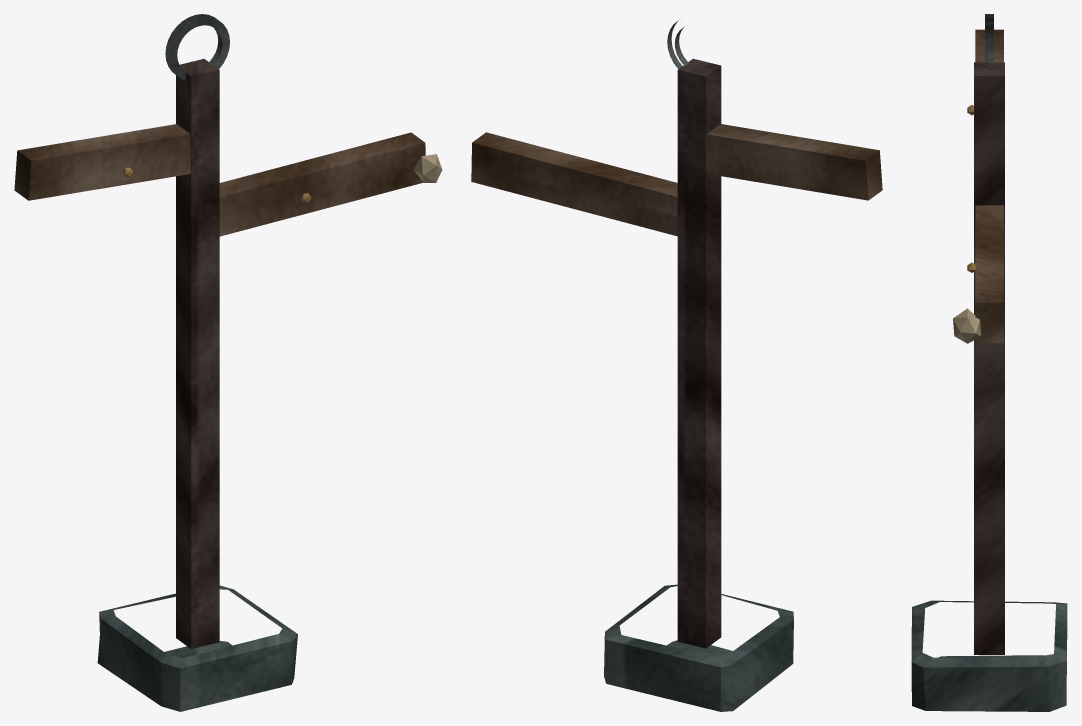
File: 0648_signpost_23.glb
The picture shows the model from 3 angles, left to right: view 1: azimuth 30°, elevation 25°; view 2: azimuth 150°, elevation 25°; view 3: azimuth 270°, elevation 25°; orthographic projection.
Visible parts, largest first — view 1: wood_dark, wood, stone_dark, iron; view 2: wood_dark, wood, stone_dark; view 3: wood_dark, stone_dark, wood, bone, iron.
Part boxes in pixels (x1,y1,x2,y2): wood_dark: (176,59,219,648); wood: (14,124,425,236); stone_dark: (97,585,297,711); iron: (165,14,229,80); wood_dark: (677,58,721,648); wood: (471,124,882,236); stone_dark: (604,584,793,711); wood_dark: (974,62,1004,654); stone_dark: (911,600,1067,711); wood: (975,29,1003,343); bone: (953,308,980,343); iron: (985,14,993,62).
Bounding box in the file's own units: 2.17 × 3.34 × 0.7089.
Materials: 6 (6 with a texture image).
